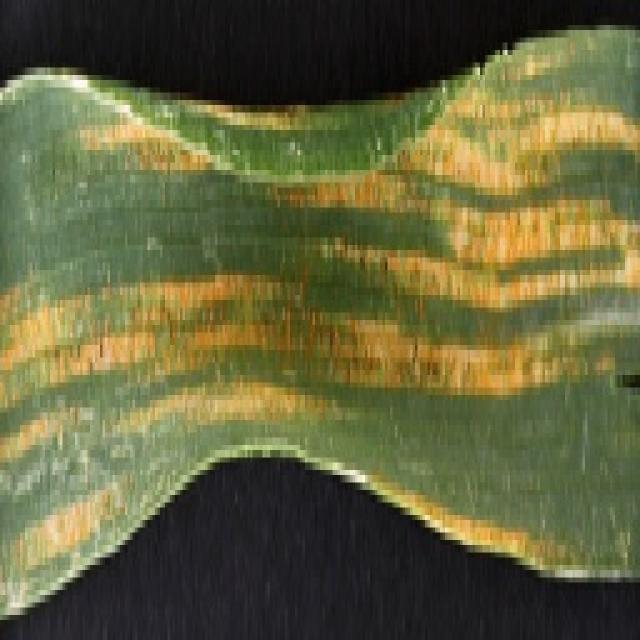Healthy Wheat: (0, 20, 638, 630)
